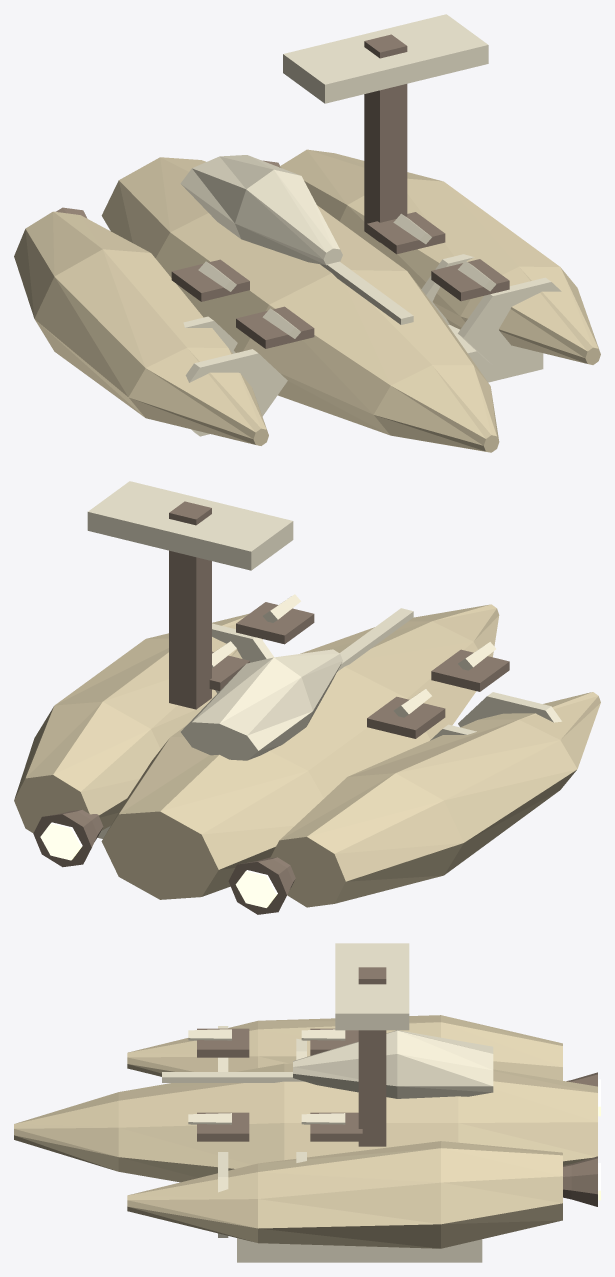
3 views of the same model, one above another, from view 1: azimuth 30°, elevation 25°; view 2: azimuth 150°, elevation 25°; view 3: azimuth 270°, elevation 25° (orthographic). The views are drawn at different scales.
Bounding box in the file's own units: 9.89 × 6.09 × 12.7.
